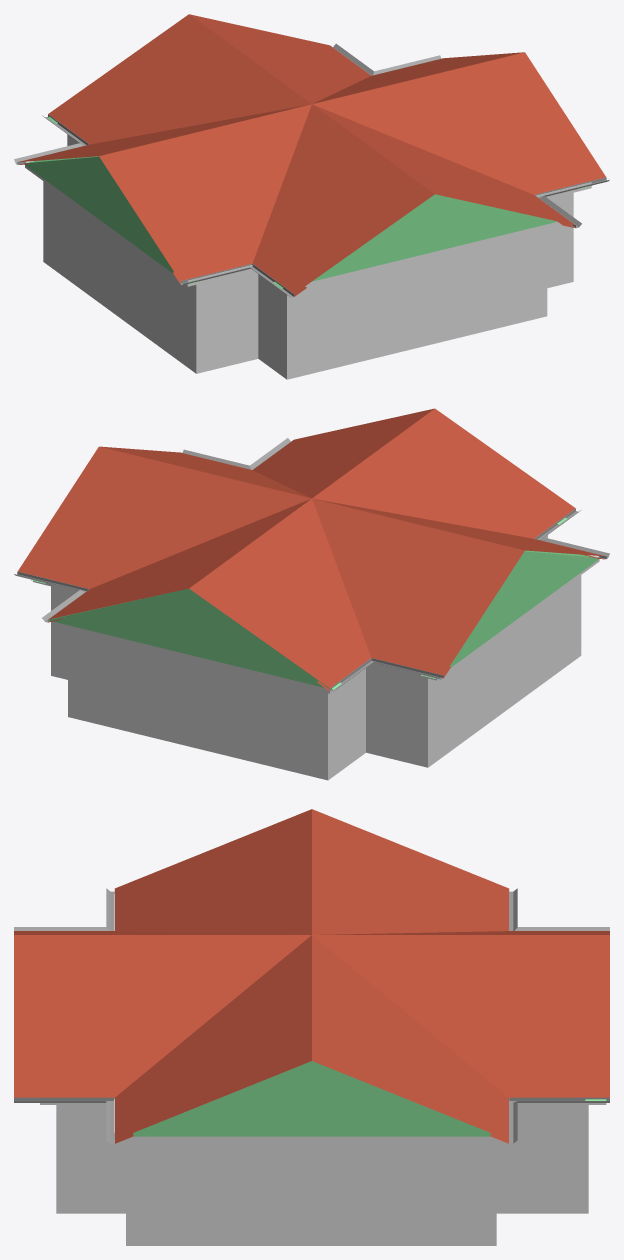
Rendered from House.fbx.
3 views of the same model, one above another, from view 1: azimuth 30°, elevation 25°; view 2: azimuth 150°, elevation 25°; view 3: azimuth 270°, elevation 25° (orthographic). The views are drawn at different scales.
Parts seen in each view (by area): view 1: MESH_ENV(Telhado_15x15_Formato.001, Cube, MESH_ENV(Telhado_15x15_Formato.002; view 2: MESH_ENV(Telhado_15x15_Formato.001, Cube, MESH_ENV(Telhado_15x15_Formato.002; view 3: MESH_ENV(Telhado_15x15_Formato.001, Cube, MESH_ENV(Telhado_15x15_Formato.002.
Boxes of the visible parts, bbox=[...] form: MESH_ENV(Telhado_15x15_Formato.001: bbox=[14, 14, 609, 297]; Cube: bbox=[25, 134, 591, 379]; MESH_ENV(Telhado_15x15_Formato.002: bbox=[24, 116, 592, 288]; MESH_ENV(Telhado_15x15_Formato.001: bbox=[14, 408, 609, 691]; Cube: bbox=[33, 535, 599, 780]; MESH_ENV(Telhado_15x15_Formato.002: bbox=[30, 517, 598, 689]; MESH_ENV(Telhado_15x15_Formato.001: bbox=[14, 809, 609, 1143]; Cube: bbox=[40, 894, 606, 1245]; MESH_ENV(Telhado_15x15_Formato.002: bbox=[133, 1061, 606, 1136].
Bounding box in the file's own units: 1500 × 560 × 1500.
